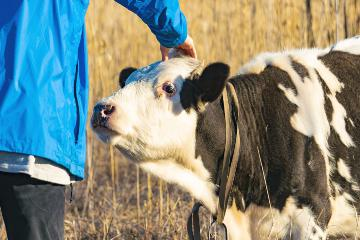cow: (91, 66, 360, 204)
